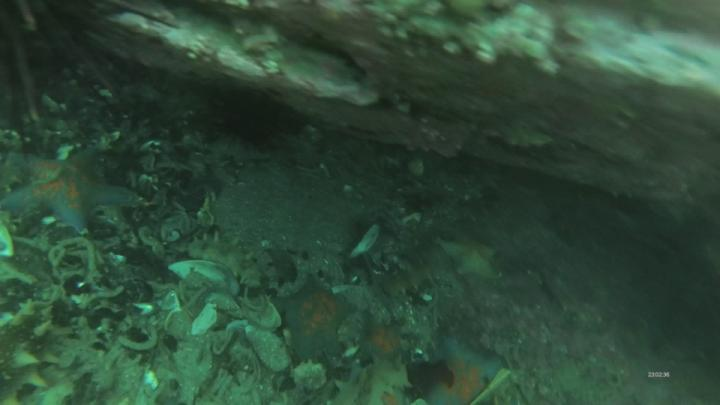echinus: (223, 102, 271, 147)
scallop: (263, 300, 282, 331)
starfish: (9, 153, 134, 229), (281, 279, 354, 357), (434, 337, 502, 405), (445, 232, 500, 280), (363, 314, 406, 363)
